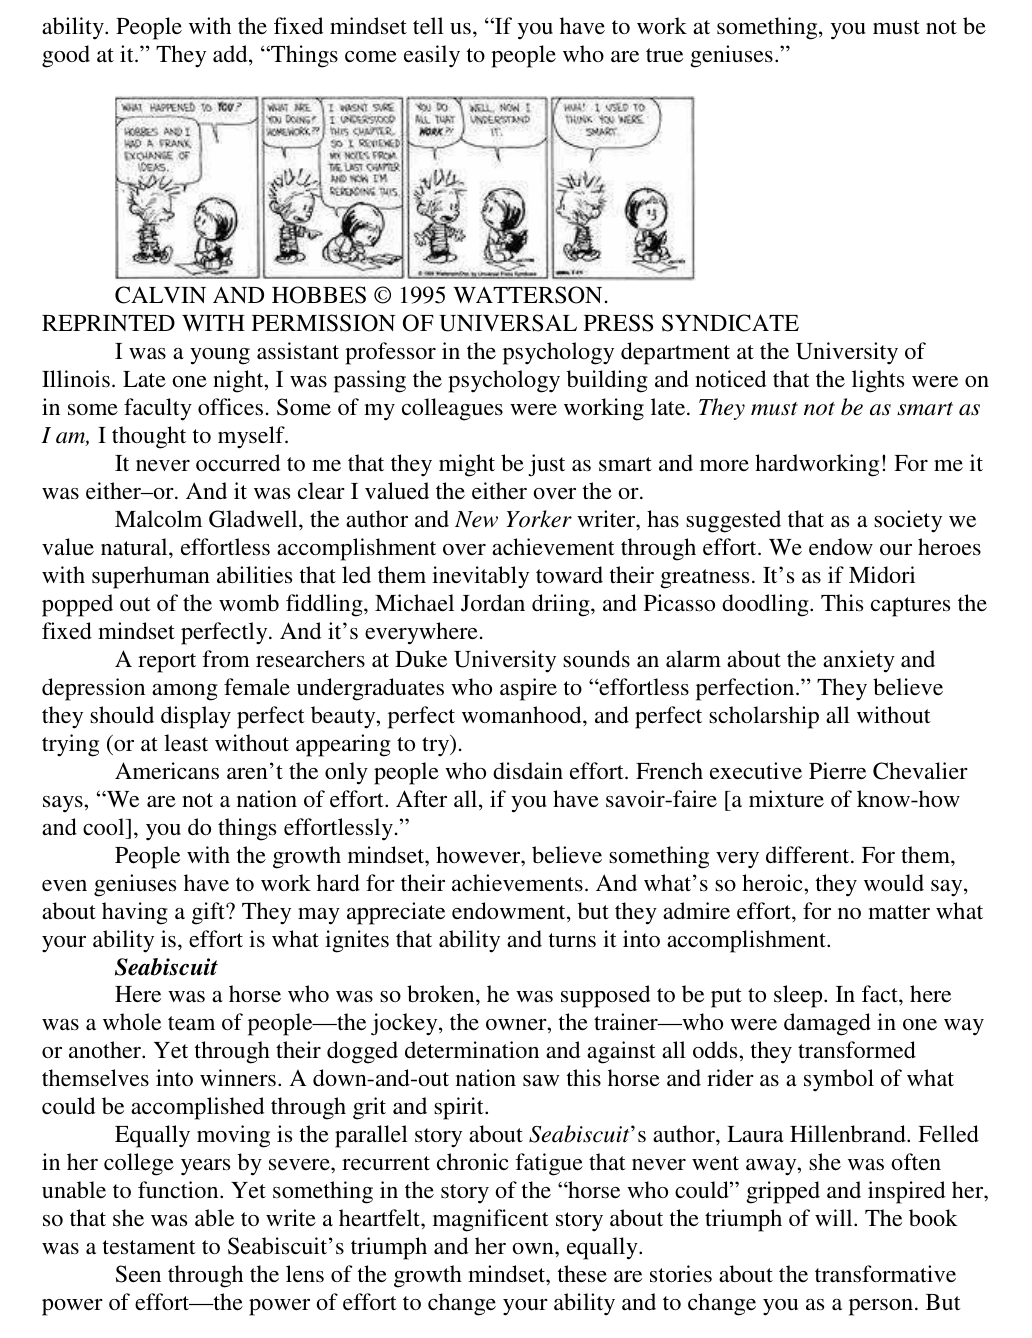latin: (38, 1120, 997, 1322), (35, 451, 997, 647), (29, 647, 986, 842), (38, 953, 988, 1120), (34, 841, 994, 954), (33, 338, 990, 451), (41, 15, 988, 68), (42, 284, 801, 338)
